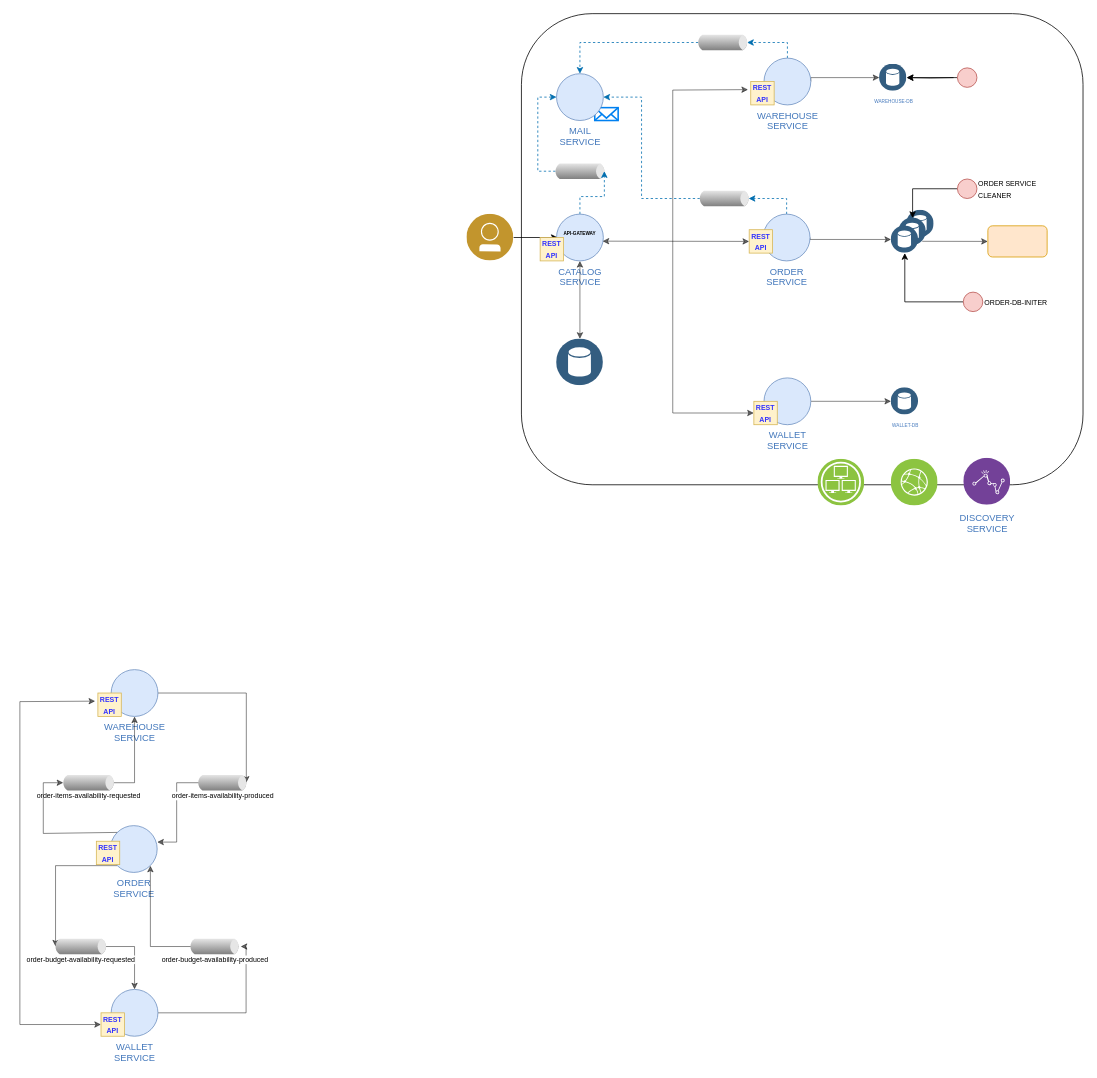
Image size: 1097x1078. Some labels were removed from this diagram. Here are the shapes that lost their labels. From the top down, the centre of each, then its label:
At point (722, 42): "warehouse-threshold".
At point (967, 77): "WAREHOUSE SERVICE CLEANER".
At point (579, 171): "user-created".
At point (723, 198): "order-status-updated".
At point (489, 237): "USER".
At point (904, 239): "ORDER-DB".
At point (1017, 241): "Debezium".
At point (579, 362): "CATALOG-DB".
At point (840, 482): "ZOOKEEPER".
At point (914, 482): "KAFKA".
